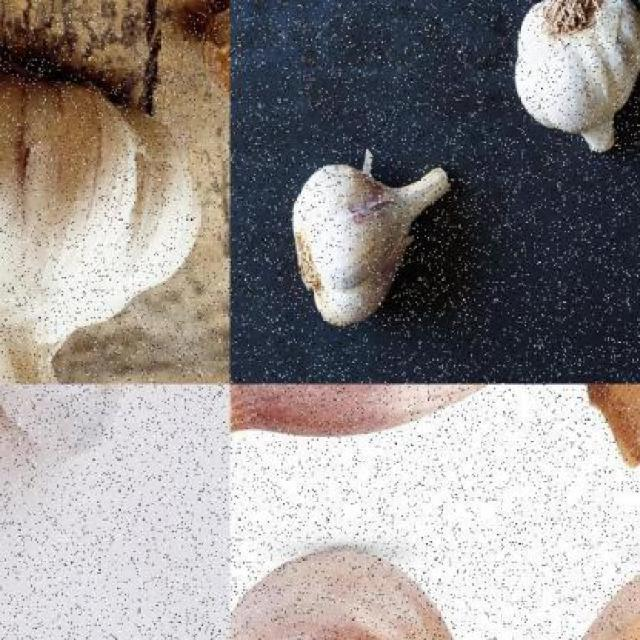garlic: (0, 61, 203, 384), (291, 152, 454, 332), (230, 542, 481, 640), (510, 0, 638, 155), (230, 384, 522, 447), (0, 385, 157, 463)
